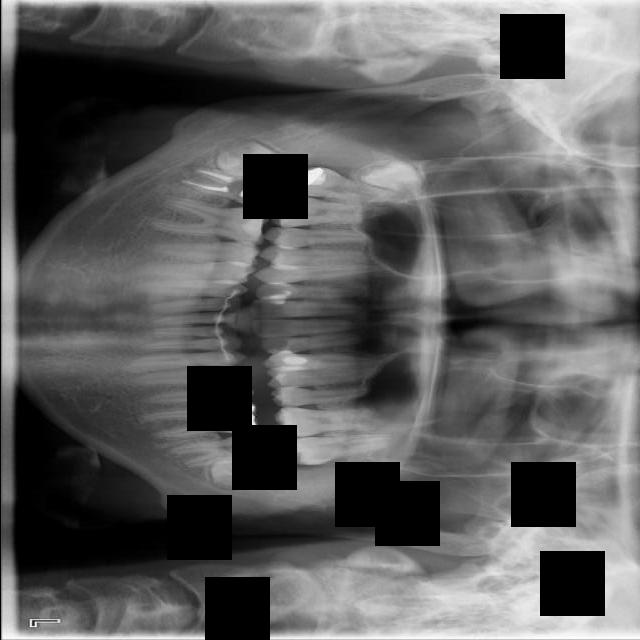3M ESPE Implant: (361, 161, 424, 192)
52: (284, 153, 342, 210), (226, 159, 283, 217), (216, 400, 260, 439), (249, 299, 305, 319), (262, 353, 315, 373), (255, 281, 298, 301)
73: (180, 162, 247, 202), (82, 602, 94, 614)
BioHorizons Implant: (278, 431, 393, 469)
Biomet 3i Implant: (209, 459, 277, 489)
Blue Sky Bio Implant: (168, 431, 278, 468)
Caries: (288, 163, 404, 207)
Implant: (179, 164, 283, 211)
Keystone Dental Implant: (212, 135, 283, 184)
